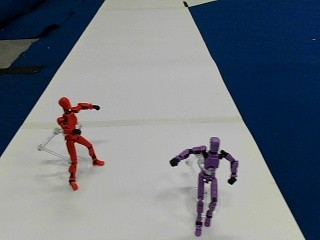pedestrian: (168, 137, 238, 231), (55, 95, 102, 188)
